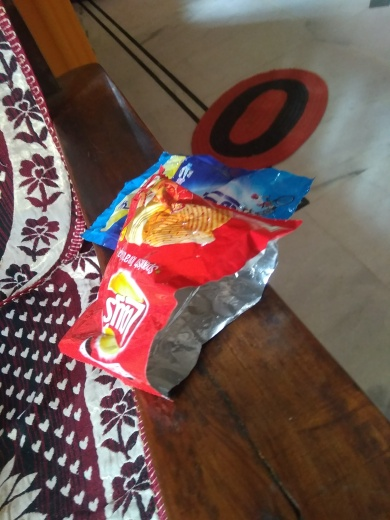lays: (52, 190, 301, 393)
surf: (83, 148, 320, 241)
